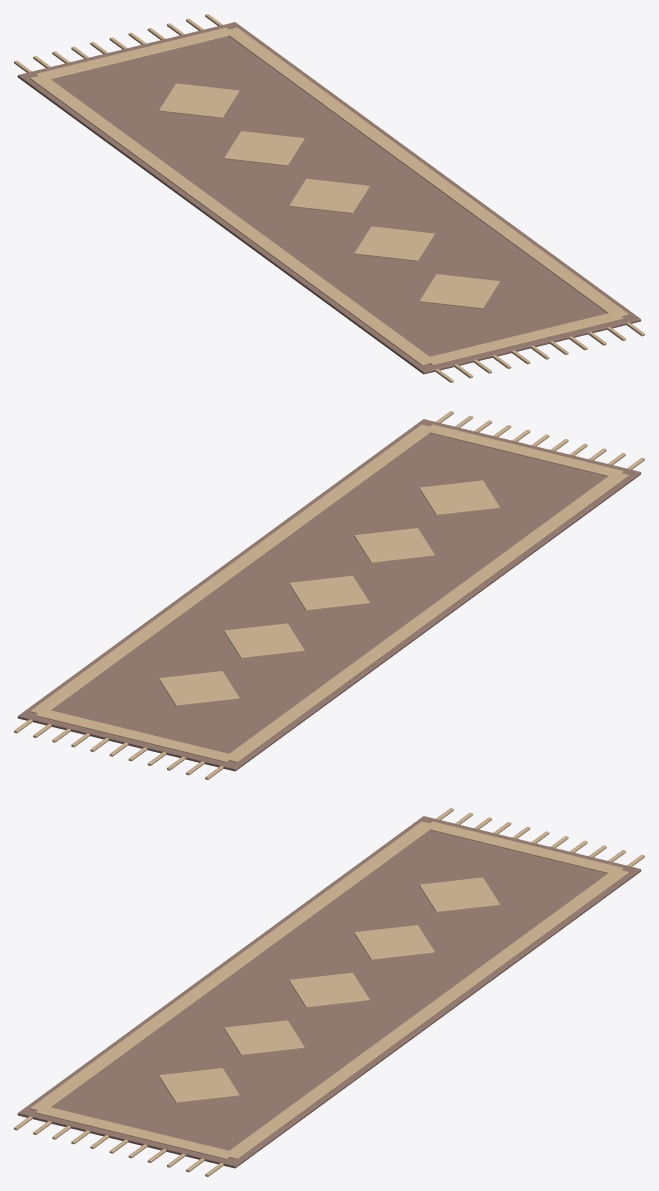
File: hall_runner.glb
The picture shows the model from 3 angles, top to bottom: view 1: azimuth 30°, elevation 25°; view 2: azimuth 150°, elevation 25°; view 3: azimuth 330°, elevation 25°; orthographic projection.
Visible parts, largest first — view 1: arrival_dressing_runner_001_runner_body, arrival_dressing_runner_002_runner_long_border_-0.505, arrival_dressing_runner_003_runner_long_border_0.505, arrival_dressing_runner_007_runner_diamond_-0.59, arrival_dressing_runner_008_runner_diamond_0.0, arrival_dressing_runner_009_runner_diamond_0.59, arrival_dressing_runner_006_runner_diamond_-1.18, arrival_dressing_runner_010_runner_diamond_1.18, arrival_dressing_runner_004_runner_end_border_-1.76, arrival_dressing_runner_005_runner_end_border_1.76; view 2: arrival_dressing_runner_001_runner_body, arrival_dressing_runner_002_runner_long_border_-0.505, arrival_dressing_runner_003_runner_long_border_0.505, arrival_dressing_runner_009_runner_diamond_0.59, arrival_dressing_runner_007_runner_diamond_-0.59, arrival_dressing_runner_008_runner_diamond_0.0, arrival_dressing_runner_006_runner_diamond_-1.18, arrival_dressing_runner_010_runner_diamond_1.18, arrival_dressing_runner_005_runner_end_border_1.76, arrival_dressing_runner_004_runner_end_border_-1.76; view 3: arrival_dressing_runner_001_runner_body, arrival_dressing_runner_003_runner_long_border_0.505, arrival_dressing_runner_002_runner_long_border_-0.505, arrival_dressing_runner_007_runner_diamond_-0.59, arrival_dressing_runner_008_runner_diamond_0.0, arrival_dressing_runner_009_runner_diamond_0.59, arrival_dressing_runner_006_runner_diamond_-1.18, arrival_dressing_runner_010_runner_diamond_1.18, arrival_dressing_runner_004_runner_end_border_-1.76, arrival_dressing_runner_005_runner_end_border_1.76.
Part boxes in pixels (box(x1,y1,x2,y2)): arrival_dressing_runner_001_runner_body: box(17, 22, 641, 374); arrival_dressing_runner_002_runner_long_border_-0.505: box(30, 74, 434, 365); arrival_dressing_runner_003_runner_long_border_0.505: box(224, 27, 628, 316); arrival_dressing_runner_007_runner_diamond_-0.59: box(224, 131, 304, 166); arrival_dressing_runner_008_runner_diamond_0.0: box(289, 178, 369, 213); arrival_dressing_runner_009_runner_diamond_0.59: box(354, 226, 434, 261); arrival_dressing_runner_006_runner_diamond_-1.18: box(159, 83, 239, 118); arrival_dressing_runner_010_runner_diamond_1.18: box(419, 274, 499, 309); arrival_dressing_runner_004_runner_end_border_-1.76: box(35, 27, 232, 79); arrival_dressing_runner_005_runner_end_border_1.76: box(428, 313, 623, 365); arrival_dressing_runner_001_runner_body: box(17, 419, 641, 771); arrival_dressing_runner_002_runner_long_border_-0.505: box(224, 471, 628, 762); arrival_dressing_runner_003_runner_long_border_0.505: box(30, 424, 434, 713); arrival_dressing_runner_009_runner_diamond_0.59: box(354, 528, 434, 563); arrival_dressing_runner_007_runner_diamond_-0.59: box(224, 623, 304, 658); arrival_dressing_runner_008_runner_diamond_0.0: box(289, 575, 369, 610); arrival_dressing_runner_006_runner_diamond_-1.18: box(159, 671, 239, 706); arrival_dressing_runner_010_runner_diamond_1.18: box(419, 480, 499, 515); arrival_dressing_runner_005_runner_end_border_1.76: box(425, 424, 623, 476); arrival_dressing_runner_004_runner_end_border_-1.76: box(35, 710, 233, 762); arrival_dressing_runner_001_runner_body: box(17, 816, 641, 1168); arrival_dressing_runner_003_runner_long_border_0.505: box(224, 868, 628, 1159); arrival_dressing_runner_002_runner_long_border_-0.505: box(30, 821, 434, 1110); arrival_dressing_runner_007_runner_diamond_-0.59: box(354, 925, 434, 960); arrival_dressing_runner_008_runner_diamond_0.0: box(289, 972, 369, 1007); arrival_dressing_runner_009_runner_diamond_0.59: box(224, 1020, 304, 1055); arrival_dressing_runner_006_runner_diamond_-1.18: box(419, 877, 499, 912); arrival_dressing_runner_010_runner_diamond_1.18: box(159, 1068, 239, 1103); arrival_dressing_runner_004_runner_end_border_-1.76: box(426, 821, 623, 873); arrival_dressing_runner_005_runner_end_border_1.76: box(35, 1107, 231, 1159).
Bounding box in the file's own units: 1.14 × 0.0205 × 3.96.
